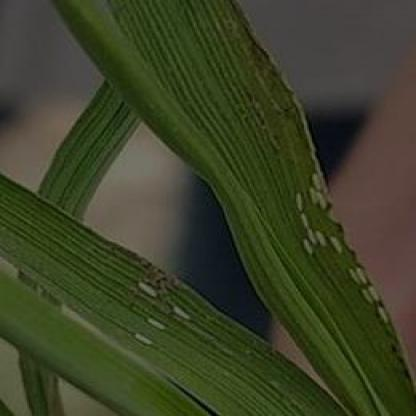whorl-maggot: (124, 328, 158, 353), (140, 308, 172, 334), (130, 279, 163, 302), (322, 234, 350, 254), (308, 172, 330, 194), (168, 302, 192, 322), (364, 282, 382, 307), (373, 304, 395, 324), (295, 234, 314, 256), (290, 189, 305, 213), (344, 268, 362, 288), (298, 214, 314, 235)
